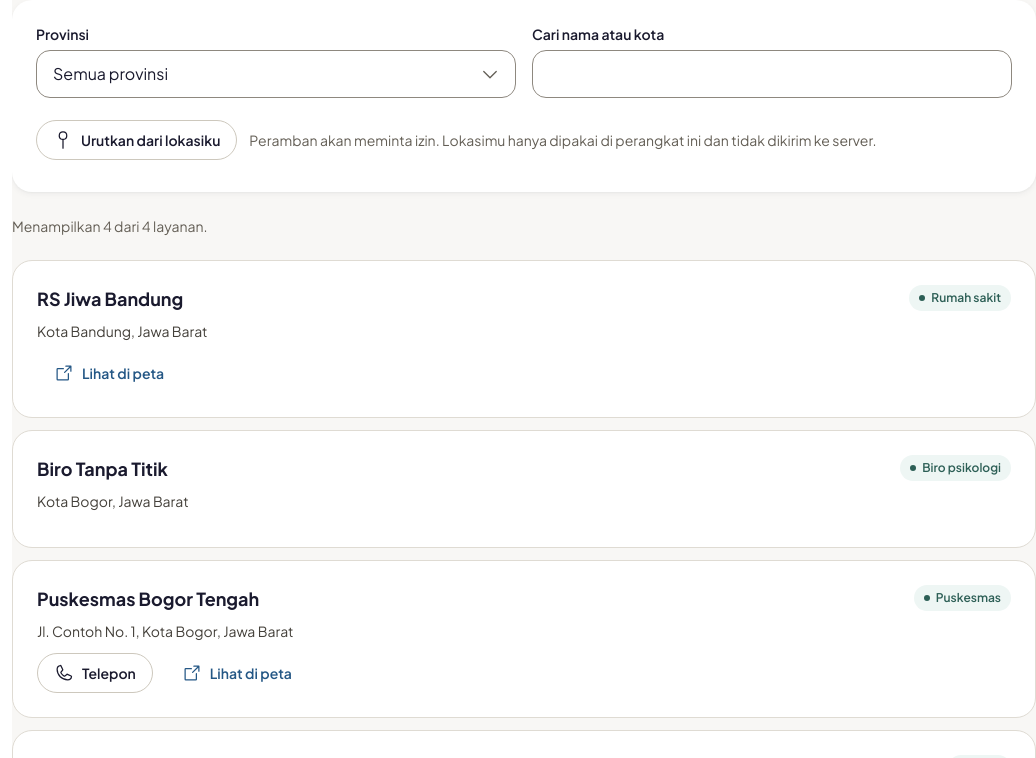
Scenario: FacilityDirectory › lokasi › timeout: pesan yang jelas dan daftar tetap bisa dipakai
Step 1. Click the button "Urutkan dari lokasiku" → [137, 140], box [36,120,237,160]
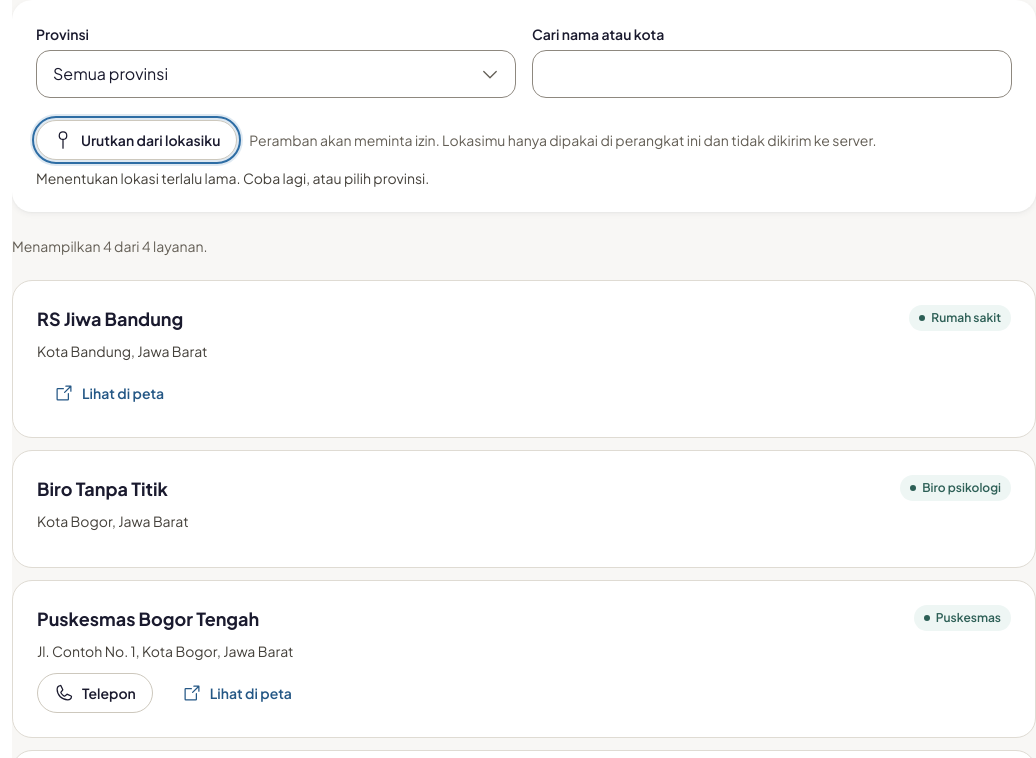
Result: the text "Menentukan lokasi terlalu lama. Coba lagi, atau pilih provinsi." is shown at [36,169,429,187]
